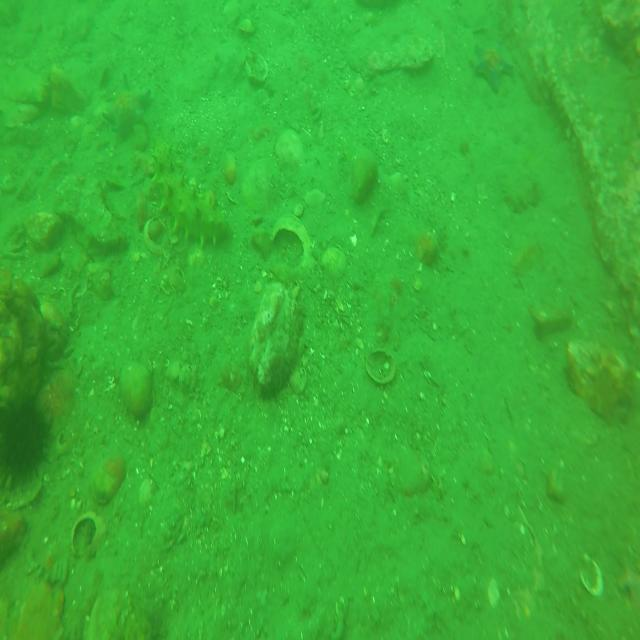echinus: (0, 396, 51, 489)
holothurian: (150, 140, 230, 250)
scallop: (250, 281, 302, 391)
starfish: (102, 77, 154, 135), (472, 43, 513, 92)
